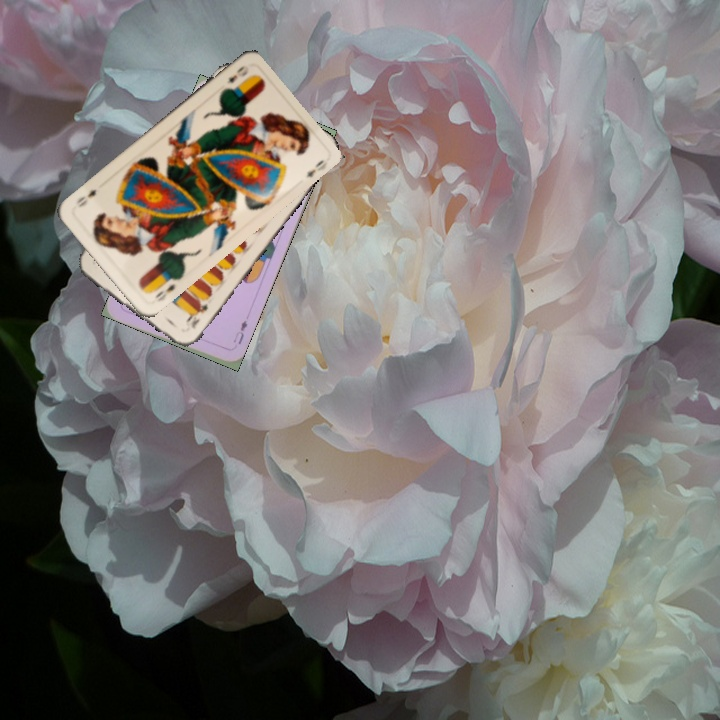E10: (183, 299, 210, 331)
EO: (145, 274, 181, 305), (222, 61, 251, 87)
EU: (229, 316, 250, 347)
